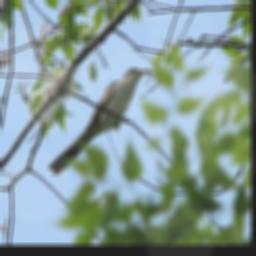Cuckoo: (47, 65, 150, 172)
